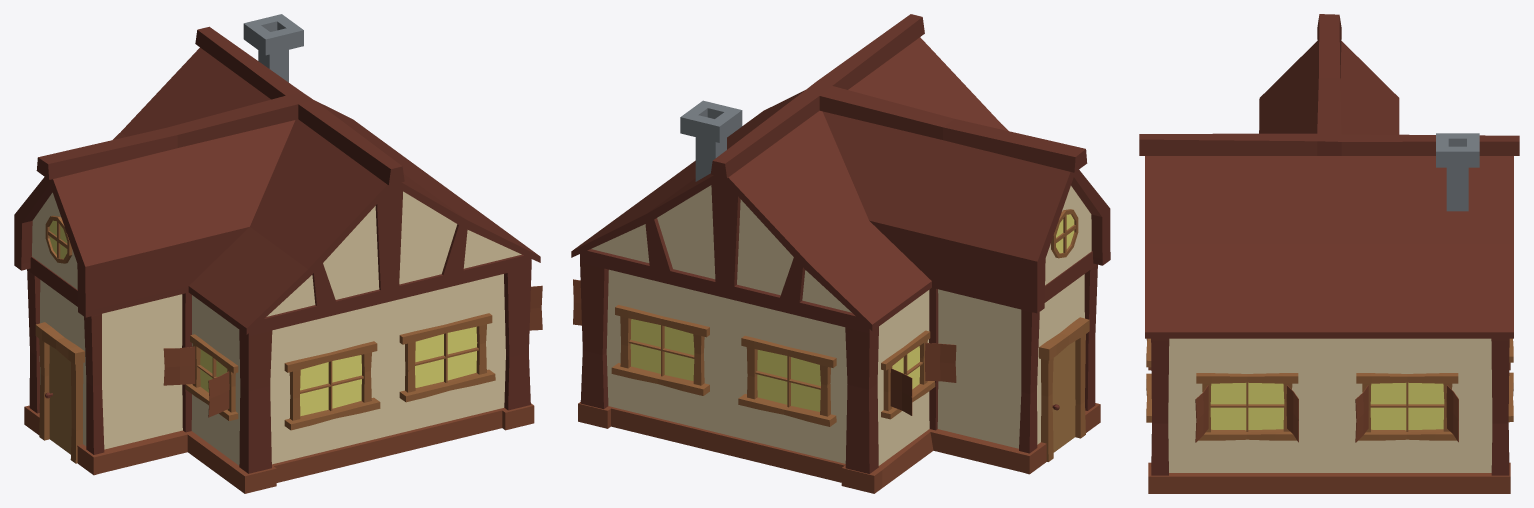
Rendered from House_04.fbx.
3 views of the same model, side by side, from view 1: azimuth 30°, elevation 25°; view 2: azimuth 150°, elevation 25°; view 3: azimuth 270°, elevation 25° (orthographic). The views are drawn at different scales.
Parts seen in each view (by area): view 1: House_05; view 2: House_05; view 3: House_05.
Part boxes in pixels (x1=…): House_05: x1=14, y1=14, x2=542, y2=493; House_05: x1=571, y1=14, x2=1110, y2=493; House_05: x1=1139, y1=14, x2=1519, y2=493.
Bounding box in the file's own units: 932 × 633 × 723.
